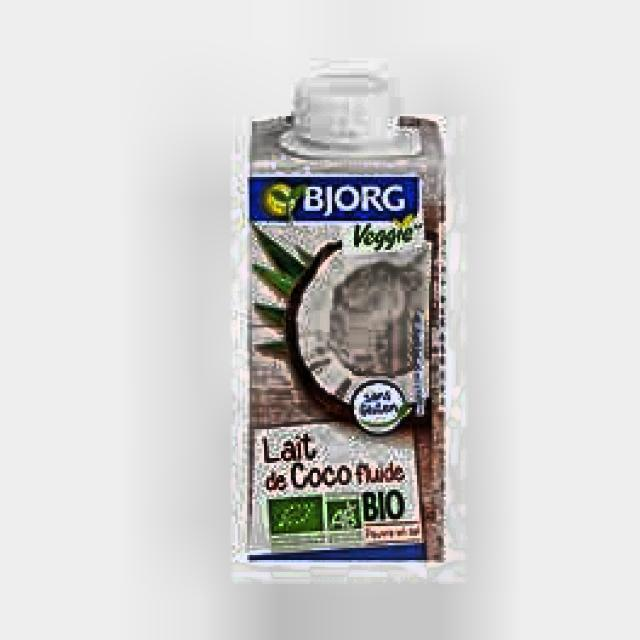cardboard: (242, 92, 446, 560)
